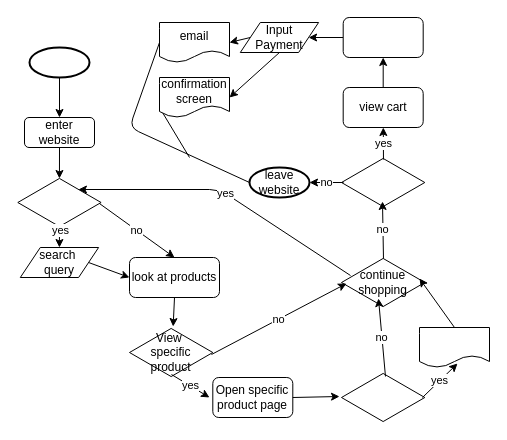
Image size: 507x440. Some labels were removed from this diagram. The centre of each missing label's shape, as x and y in pixels:
"add to cart" belongs at pixel 382 397.
"checkout" belongs at pixel 382 182.
"confirmation" belongs at pixel 454 347.
"search product" belongs at pixel 59 202.
"start" belongs at pixel 59 62.
"View Payment" belongs at pixel 382 37.
